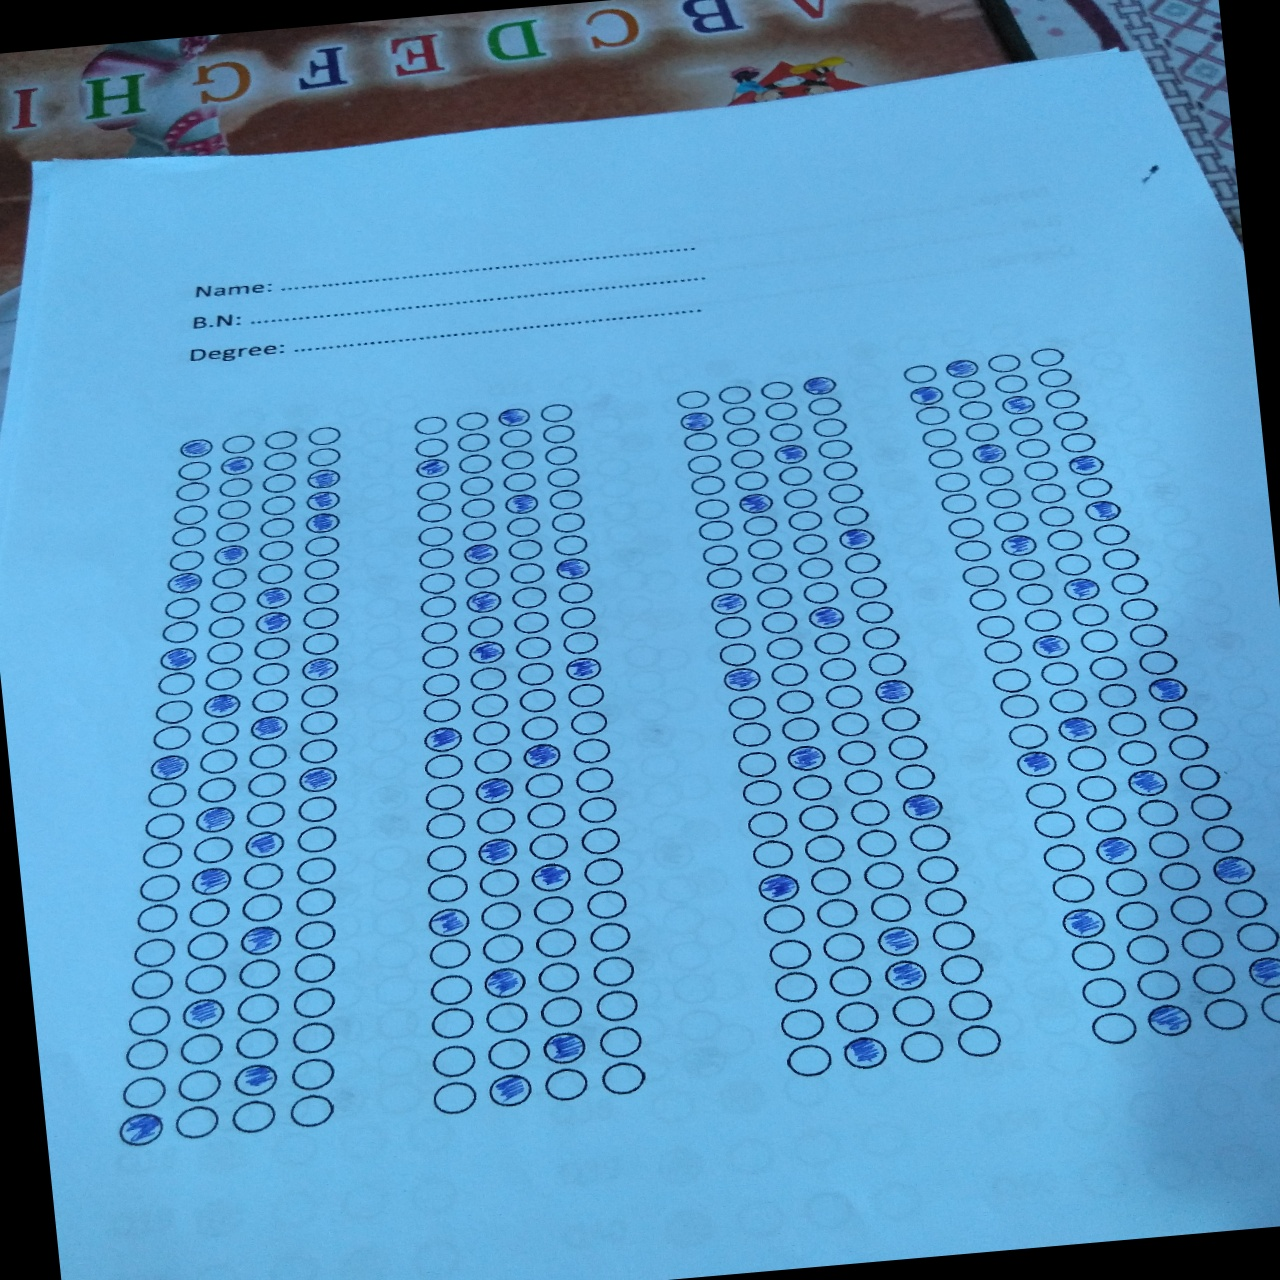not-c: (599, 1060, 649, 1099), (1048, 869, 1098, 908), (173, 1065, 223, 1105), (120, 1074, 169, 1114), (542, 1065, 591, 1105), (1191, 958, 1240, 998), (1123, 930, 1172, 969), (890, 990, 939, 1030), (229, 1097, 279, 1136), (429, 1080, 479, 1118), (425, 971, 476, 1009), (784, 1042, 835, 1081), (1068, 937, 1118, 975), (1167, 891, 1218, 930), (930, 917, 978, 956), (779, 1005, 828, 1044), (922, 881, 971, 921), (173, 1103, 223, 1142), (597, 1022, 646, 1061), (592, 986, 641, 1024), (898, 1028, 947, 1067), (955, 1022, 1005, 1061), (938, 951, 987, 989), (1089, 1009, 1138, 1048), (1201, 995, 1251, 1034), (1135, 966, 1184, 1005), (1179, 925, 1228, 964), (1223, 884, 1272, 922), (1114, 897, 1163, 935), (832, 998, 881, 1036), (825, 962, 874, 1001), (765, 935, 815, 974), (812, 894, 862, 933), (818, 928, 869, 966), (429, 1005, 477, 1043), (1080, 974, 1128, 1013), (429, 1043, 478, 1081), (588, 954, 638, 992), (947, 987, 996, 1024), (770, 968, 819, 1006), (760, 900, 809, 938), (866, 888, 915, 926), (914, 851, 964, 888), (485, 1035, 533, 1073), (859, 858, 908, 894), (748, 836, 797, 872), (794, 799, 843, 836), (1234, 918, 1280, 956), (179, 960, 227, 996), (744, 806, 794, 842), (290, 1056, 336, 1092), (483, 999, 530, 1035), (129, 967, 177, 1002), (125, 1002, 173, 1037), (232, 1024, 280, 1060), (290, 1020, 338, 1055), (287, 1092, 335, 1128), (806, 863, 855, 898), (1041, 840, 1089, 876), (1145, 828, 1193, 863), (1185, 790, 1233, 825), (1073, 771, 1121, 806), (539, 993, 585, 1029), (292, 917, 339, 952), (184, 928, 231, 964), (292, 951, 339, 986), (125, 1037, 172, 1073), (176, 1032, 223, 1067), (536, 959, 583, 994), (1200, 822, 1247, 857), (1156, 859, 1203, 894), (130, 935, 178, 969), (234, 956, 282, 990), (234, 990, 282, 1024), (853, 826, 901, 860), (907, 821, 955, 855), (1030, 809, 1078, 843), (1084, 801, 1132, 835), (1102, 866, 1150, 900), (1176, 760, 1224, 794), (1164, 730, 1212, 764), (520, 768, 566, 803), (586, 919, 632, 954), (474, 803, 520, 837), (583, 888, 629, 922), (425, 937, 472, 971), (481, 931, 527, 965), (291, 985, 338, 1019), (801, 831, 847, 865), (1135, 795, 1182, 829), (1023, 777, 1070, 811), (476, 865, 522, 899), (523, 799, 568, 833), (525, 829, 571, 863), (576, 794, 621, 828), (580, 855, 626, 888), (843, 765, 888, 799), (293, 823, 340, 856), (293, 855, 340, 887), (136, 872, 183, 905), (292, 885, 339, 918), (1103, 707, 1150, 740), (578, 823, 622, 857), (478, 898, 523, 932), (572, 764, 618, 797), (568, 734, 614, 767), (531, 893, 577, 926), (532, 925, 578, 958), (135, 900, 181, 933), (238, 891, 284, 924), (724, 693, 770, 726), (241, 797, 288, 829), (1114, 736, 1160, 768), (1005, 720, 1051, 751), (1153, 701, 1200, 733), (893, 760, 938, 792), (244, 769, 290, 801), (241, 859, 287, 891), (186, 897, 232, 928), (789, 772, 835, 804), (740, 776, 785, 808), (734, 749, 779, 781), (468, 717, 515, 748), (141, 810, 188, 840), (471, 744, 516, 776), (294, 794, 339, 825), (729, 719, 774, 750), (716, 638, 761, 669), (421, 781, 467, 811), (139, 839, 185, 870), (846, 797, 892, 828), (198, 745, 241, 777), (425, 872, 470, 903), (195, 775, 239, 805), (190, 835, 234, 865), (1065, 742, 1110, 772), (767, 660, 811, 690), (960, 561, 1005, 592), (421, 751, 467, 781), (519, 713, 563, 743), (425, 843, 469, 873), (144, 779, 188, 810), (886, 733, 930, 763), (1046, 686, 1089, 716), (1136, 647, 1179, 678), (974, 611, 1017, 641), (1077, 626, 1121, 656), (1051, 549, 1095, 579), (563, 681, 607, 710), (423, 811, 468, 840), (297, 682, 341, 712), (248, 687, 293, 716), (150, 723, 195, 753), (829, 709, 873, 738), (823, 682, 867, 712), (835, 738, 879, 768), (966, 584, 1010, 613), (247, 741, 290, 771), (712, 612, 754, 642), (860, 622, 903, 653), (248, 660, 292, 689), (559, 628, 602, 658), (198, 717, 241, 747), (297, 736, 340, 765), (763, 634, 806, 663), (999, 692, 1042, 721), (1085, 654, 1129, 683), (809, 629, 853, 658), (515, 658, 557, 687), (774, 687, 816, 716), (779, 715, 822, 744), (817, 654, 859, 683), (853, 597, 896, 626), (1096, 681, 1138, 710), (1037, 660, 1080, 689), (953, 537, 995, 566), (155, 669, 198, 697), (202, 665, 245, 693), (467, 663, 510, 692), (418, 670, 462, 699), (421, 695, 464, 723), (471, 692, 515, 720), (515, 687, 558, 715), (756, 610, 799, 638), (879, 704, 922, 733), (751, 584, 795, 612), (981, 639, 1024, 667), (1108, 568, 1149, 598), (556, 604, 600, 631), (205, 588, 247, 617), (418, 644, 461, 672), (512, 634, 554, 662), (567, 708, 610, 736), (152, 697, 195, 726), (297, 709, 339, 737), (866, 651, 908, 679), (847, 574, 890, 602), (799, 578, 842, 606), (990, 666, 1033, 694), (1118, 595, 1160, 624), (1099, 545, 1142, 573), (1091, 520, 1133, 549), (510, 610, 553, 636), (205, 614, 248, 641), (203, 639, 246, 666), (251, 635, 294, 662), (299, 631, 342, 658), (1126, 621, 1167, 649), (1044, 526, 1085, 554), (159, 619, 202, 646), (1023, 606, 1065, 633), (946, 513, 986, 542), (796, 554, 836, 583), (508, 584, 551, 610), (462, 614, 505, 640), (299, 605, 342, 631), (1006, 556, 1047, 583), (1035, 502, 1076, 529), (990, 508, 1032, 535), (704, 565, 745, 592), (300, 581, 342, 607), (417, 593, 459, 619), (417, 619, 459, 645), (1014, 581, 1056, 607), (1071, 601, 1114, 627), (842, 549, 881, 576), (749, 559, 789, 586), (700, 542, 740, 568), (744, 535, 784, 561), (790, 531, 830, 558), (162, 595, 203, 621), (414, 499, 455, 525), (452, 408, 493, 434), (496, 448, 537, 474), (785, 508, 826, 533), (692, 495, 733, 520), (824, 481, 865, 506), (1073, 475, 1114, 501), (955, 399, 996, 424), (1005, 414, 1046, 440), (983, 350, 1024, 376), (417, 571, 459, 595), (409, 411, 451, 436), (726, 447, 765, 472), (416, 547, 457, 572), (415, 524, 456, 549), (411, 479, 452, 504), (410, 435, 451, 459), (458, 496, 499, 520), (461, 565, 502, 590), (505, 537, 546, 561), (503, 515, 544, 539), (499, 469, 540, 493), (493, 425, 535, 450), (547, 510, 588, 535), (549, 532, 590, 557), (554, 581, 595, 606), (695, 519, 736, 544), (781, 486, 822, 511), (1029, 481, 1070, 505), (1014, 436, 1055, 461), (933, 469, 974, 493), (919, 424, 960, 449), (962, 418, 1003, 443), (1057, 430, 1098, 455), (1035, 366, 1076, 390), (992, 372, 1033, 396), (1027, 346, 1068, 370), (804, 394, 845, 418), (808, 415, 849, 440), (819, 458, 860, 483), (731, 468, 772, 492), (682, 451, 723, 476), (765, 420, 806, 444), (762, 399, 803, 423), (680, 428, 721, 452), (756, 379, 797, 403), (216, 475, 256, 499), (166, 549, 206, 573), (301, 557, 341, 581), (210, 566, 250, 591), (539, 422, 579, 447), (540, 443, 580, 468), (536, 401, 576, 425), (547, 486, 587, 511), (926, 447, 966, 471), (452, 429, 493, 452), (455, 452, 496, 476), (456, 474, 497, 497), (506, 561, 547, 585), (542, 465, 583, 489), (830, 504, 871, 527), (938, 491, 979, 515), (983, 486, 1024, 510), (1021, 458, 1062, 482), (912, 403, 953, 427), (1042, 388, 1083, 411), (949, 377, 990, 401), (900, 363, 941, 387), (813, 437, 855, 461), (774, 463, 815, 486), (687, 474, 728, 497), (721, 425, 762, 449), (720, 404, 761, 428), (673, 388, 714, 411), (714, 382, 755, 406), (259, 493, 298, 518), (258, 515, 297, 539), (170, 502, 209, 526), (302, 535, 341, 559), (215, 497, 254, 520), (459, 519, 499, 543), (976, 463, 1016, 486), (1051, 409, 1091, 433), (176, 459, 215, 483), (173, 481, 212, 504), (259, 470, 298, 493), (256, 539, 294, 563), (256, 561, 294, 585), (213, 520, 252, 544), (169, 525, 207, 549), (260, 450, 298, 474), (305, 424, 343, 447), (305, 445, 343, 468), (1258, 988, 1280, 1027), (218, 433, 256, 455), (261, 429, 299, 451), (741, 515, 779, 536)
taken-c: (114, 1109, 166, 1149), (229, 1060, 280, 1099), (484, 1070, 535, 1110), (538, 1028, 588, 1068), (423, 904, 475, 942), (478, 962, 529, 1001), (1057, 904, 1108, 942), (1208, 852, 1260, 890), (1144, 1001, 1194, 1039), (1089, 832, 1141, 869), (840, 1034, 888, 1073), (873, 922, 922, 960), (475, 835, 524, 871), (881, 956, 930, 993), (178, 996, 227, 1032), (418, 722, 468, 757), (1013, 745, 1062, 781), (1122, 765, 1172, 799), (526, 860, 574, 896), (472, 772, 520, 808), (518, 737, 566, 772), (899, 790, 947, 824), (755, 871, 803, 905), (188, 864, 234, 898), (1029, 629, 1076, 663), (1054, 714, 1102, 747), (237, 922, 282, 956), (784, 742, 831, 775), (1146, 674, 1193, 707), (241, 828, 287, 860), (561, 654, 608, 685), (720, 663, 764, 695), (463, 636, 509, 667), (1080, 497, 1125, 527), (549, 554, 595, 584), (1242, 954, 1280, 990), (193, 804, 237, 835), (461, 588, 508, 617), (458, 540, 504, 568), (246, 712, 290, 741), (872, 676, 915, 706), (998, 531, 1041, 560), (199, 692, 244, 720), (148, 753, 192, 781), (803, 602, 847, 631), (297, 765, 340, 794), (707, 590, 750, 618), (1061, 576, 1104, 604), (299, 655, 341, 683), (1065, 452, 1108, 481), (969, 440, 1012, 468), (252, 610, 295, 636), (502, 491, 544, 518), (491, 406, 533, 433), (735, 491, 778, 517), (411, 457, 452, 484), (253, 584, 295, 610), (835, 526, 877, 552), (157, 646, 198, 672), (998, 393, 1039, 418), (941, 356, 982, 382), (799, 373, 840, 399), (211, 543, 251, 568), (165, 570, 205, 595), (302, 467, 343, 491), (772, 441, 811, 467), (302, 510, 342, 535), (678, 410, 717, 435), (906, 383, 946, 408), (302, 489, 341, 513), (176, 436, 216, 459), (219, 454, 258, 477)
